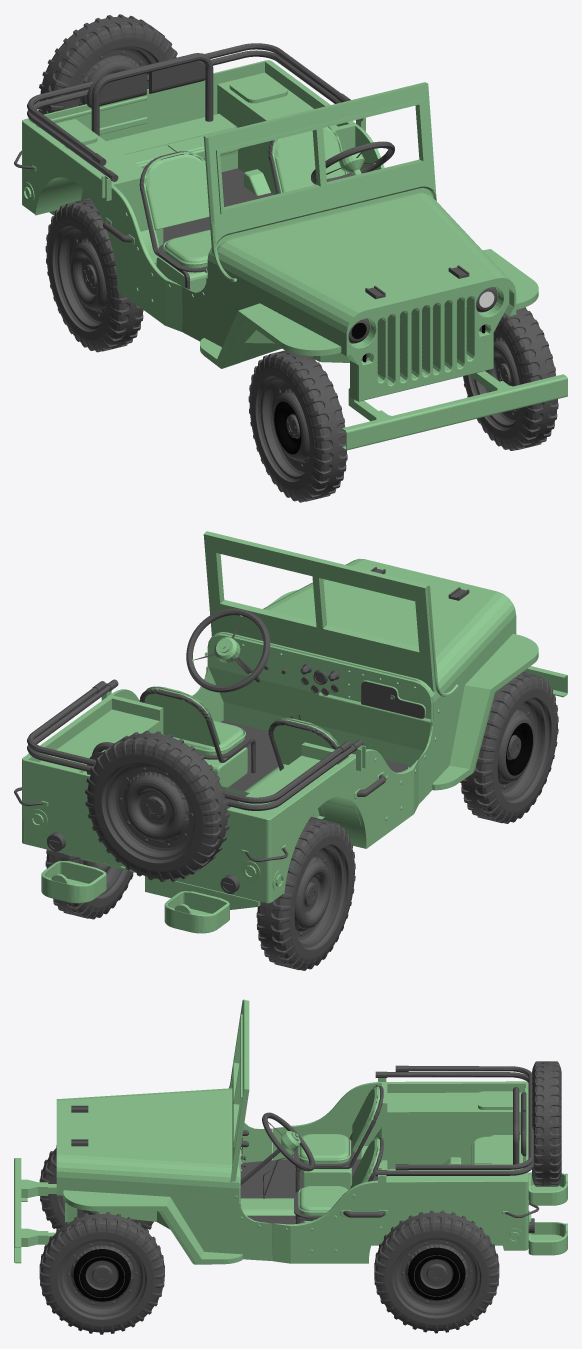
The model's file is jeep.step.glb.
The picture shows the model from 3 angles, top to bottom: view 1: azimuth 30°, elevation 25°; view 2: azimuth 150°, elevation 25°; view 3: azimuth 270°, elevation 25°; orthographic projection. The views are drawn at different scales.
Visible parts, largest first — view 1: Node9, Node4, Node2, Node1, Node3, Node6, Node8, Node11, Node5, Node7; view 2: Node9, Node3, Node2, Node1, Node4, Node8, Node5, Node11, Node7; view 3: Node9, Node5, Node8, Node4, Node3, Node6, Node11, Node2.
Boxes of the visible parts, left/top/right/bottom form: Node9: left=22, top=60, right=567, bottom=450; Node4: left=14, top=43, right=497, bottom=502; Node2: left=38, top=63, right=411, bottom=375; Node1: left=45, top=198, right=332, bottom=501; Node3: left=38, top=14, right=177, bottom=114; Node6: left=463, top=307, right=558, bottom=450; Node8: left=149, top=60, right=486, bottom=368; Node11: left=274, top=323, right=485, bottom=454; Node5: left=518, top=307, right=558, bottom=439; Node7: left=71, top=251, right=98, bottom=304; Node9: left=22, top=531, right=567, bottom=933; Node3: left=86, top=730, right=229, bottom=880; Node2: left=85, top=720, right=355, bottom=970; Node1: left=256, top=673, right=558, bottom=970; Node4: left=27, top=587, right=558, bottom=861; Node8: left=46, top=567, right=424, bottom=913; Node5: left=45, top=849, right=133, bottom=919; Node11: left=506, top=723, right=532, bottom=775; Node7: left=303, top=869, right=329, bottom=922; Node9: left=14, top=999, right=567, bottom=1264; Node5: left=40, top=1210, right=499, bottom=1333; Node8: left=71, top=1111, right=534, bottom=1332; Node4: left=39, top=1065, right=533, bottom=1254; Node3: left=343, top=1061, right=561, bottom=1217; Node6: left=39, top=1202, right=539, bottom=1334; Node11: left=73, top=1247, right=465, bottom=1301; Node2: left=294, top=1062, right=561, bottom=1192.
Size of the model in its own units: 45.83 by 47.52 by 98.11.
